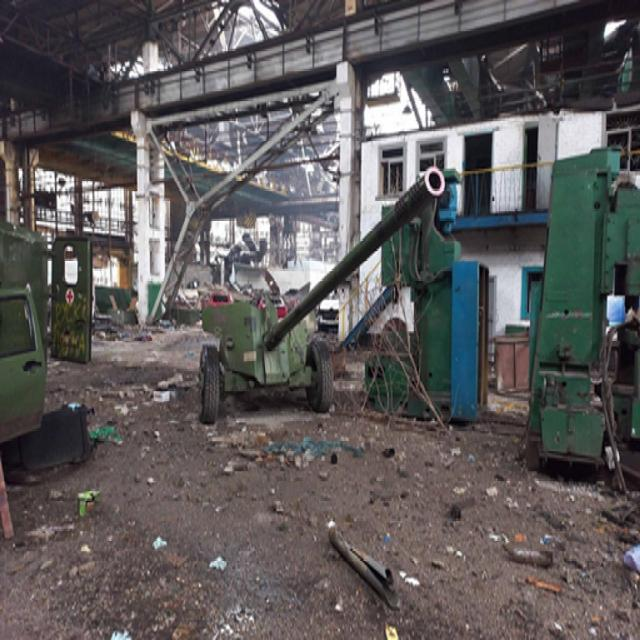ART: (197, 165, 443, 422)
